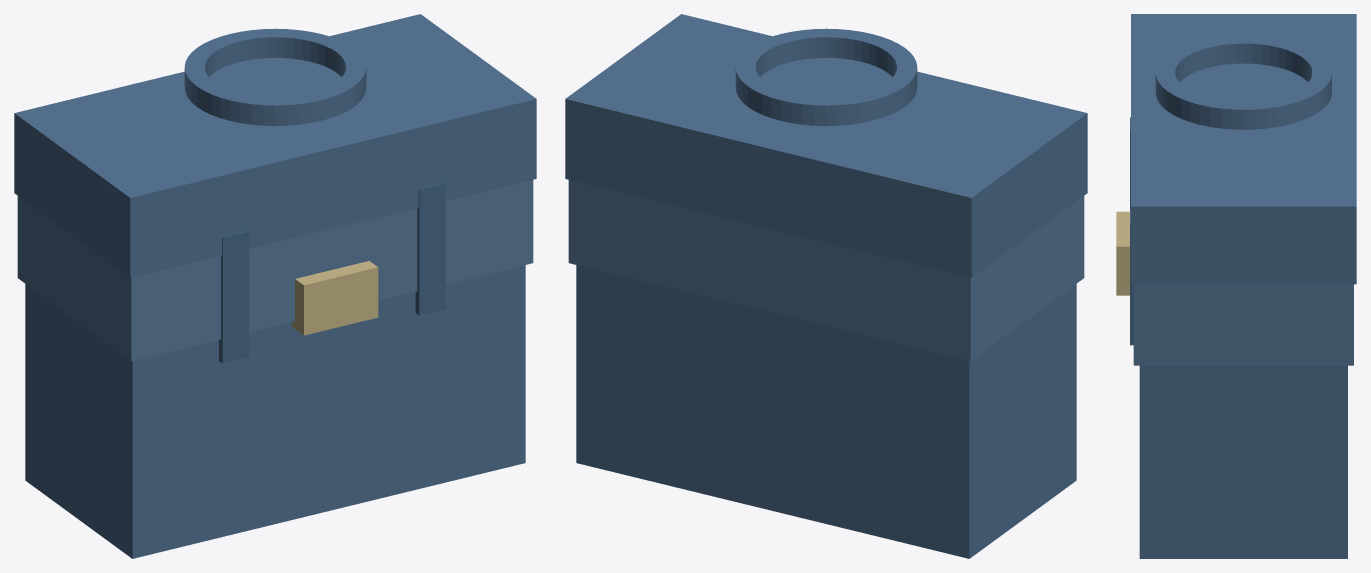
The model's file is bag.glb.
3 renders of one model, left to right at view 1: azimuth 30°, elevation 25°; view 2: azimuth 150°, elevation 25°; view 3: azimuth 270°, elevation 25°, orthographic. The views are drawn at different scales.
Visible parts, largest first — view 1: geometry_0, geometry_2, geometry_1, geometry_3, geometry_4, geometry_6, geometry_5; view 2: geometry_0, geometry_2, geometry_1, geometry_3; view 3: geometry_2, geometry_0, geometry_1, geometry_3, geometry_4, geometry_6.
Part boxes in pixels (<box>): geometry_0: <box>25,265,525,558</box>; geometry_2: <box>14,14,536,277</box>; geometry_1: <box>17,180,533,360</box>; geometry_3: <box>184,28,366,125</box>; geometry_4: <box>292,261,378,335</box>; geometry_6: <box>415,183,445,315</box>; geometry_5: <box>219,231,248,363</box>; geometry_0: <box>576,265,1076,558</box>; geometry_2: <box>565,14,1087,277</box>; geometry_1: <box>568,180,1084,360</box>; geometry_3: <box>735,28,917,125</box>; geometry_2: <box>1131,14,1356,284</box>; geometry_0: <box>1139,365,1347,558</box>; geometry_1: <box>1133,284,1353,365</box>; geometry_3: <box>1155,35,1331,129</box>; geometry_4: <box>1116,211,1129,295</box>; geometry_6: <box>1130,210,1133,345</box>.
Size of the model in its own units: 1.86 by 1.77 by 0.98.
